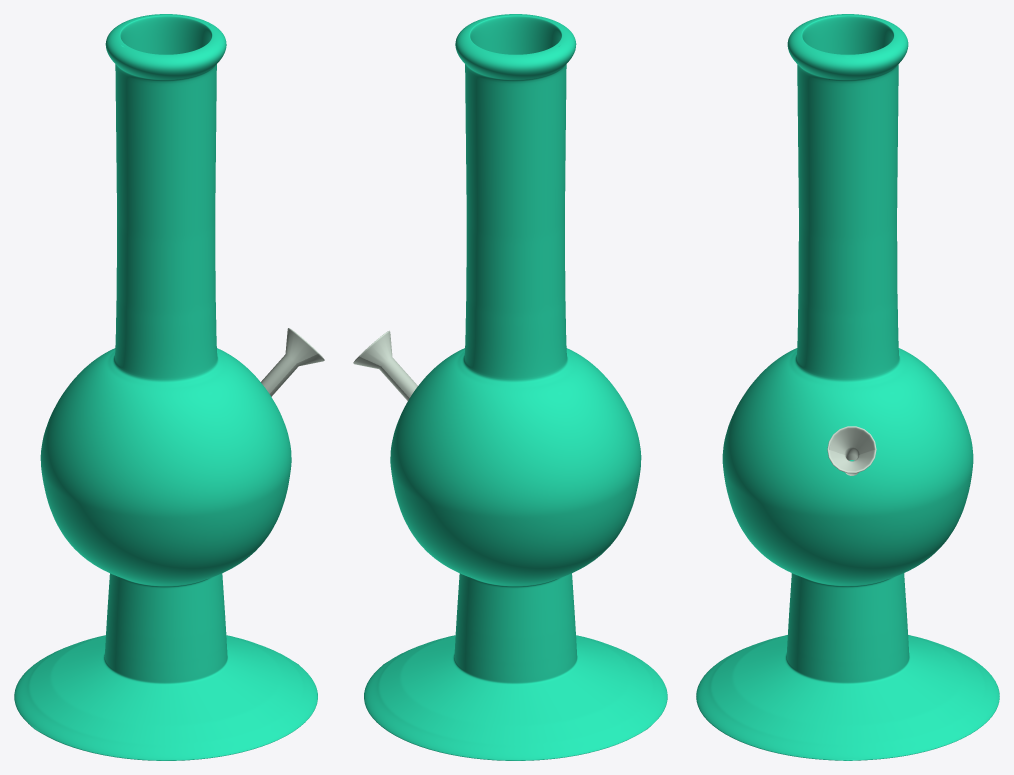
Rendered from Bong.fbx.
The picture shows the model from 3 angles, left to right: view 1: azimuth 30°, elevation 25°; view 2: azimuth 150°, elevation 25°; view 3: azimuth 270°, elevation 25°; orthographic projection.
Parts seen in each view (by area): view 1: Bong.001, BezierCircle.001; view 2: Bong.001, BezierCircle.001; view 3: Bong.001, BezierCircle.001.
Boxes of the visible parts, box(x1,y1,x2,y2) form: Bong.001: box(14, 14, 317, 760); BezierCircle.001: box(261, 328, 324, 396); Bong.001: box(364, 14, 667, 760); BezierCircle.001: box(353, 330, 417, 400); Bong.001: box(696, 14, 999, 760); BezierCircle.001: box(827, 426, 876, 475).
Bounding box in the file's own units: 440 × 967 × 402.
